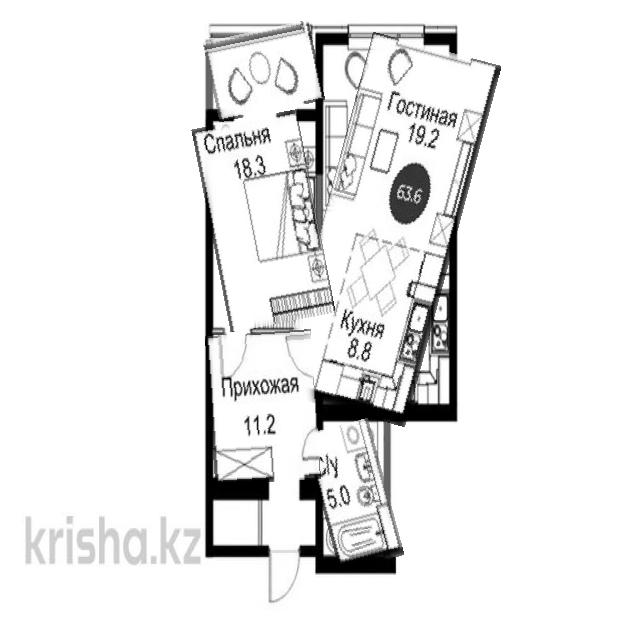balcony: (206, 26, 322, 118)
bathroom: (312, 421, 396, 569)
hallway: (207, 331, 319, 485)
living_room: (201, 113, 326, 328)
studio: (299, 38, 478, 422)
